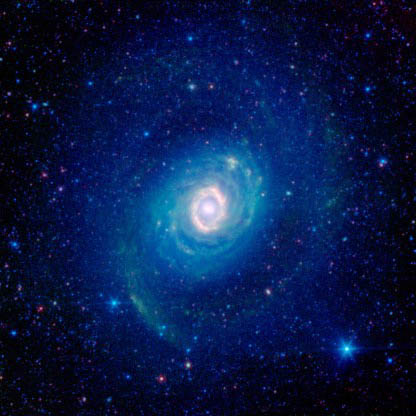Messier 94: (30, 21, 395, 387)
